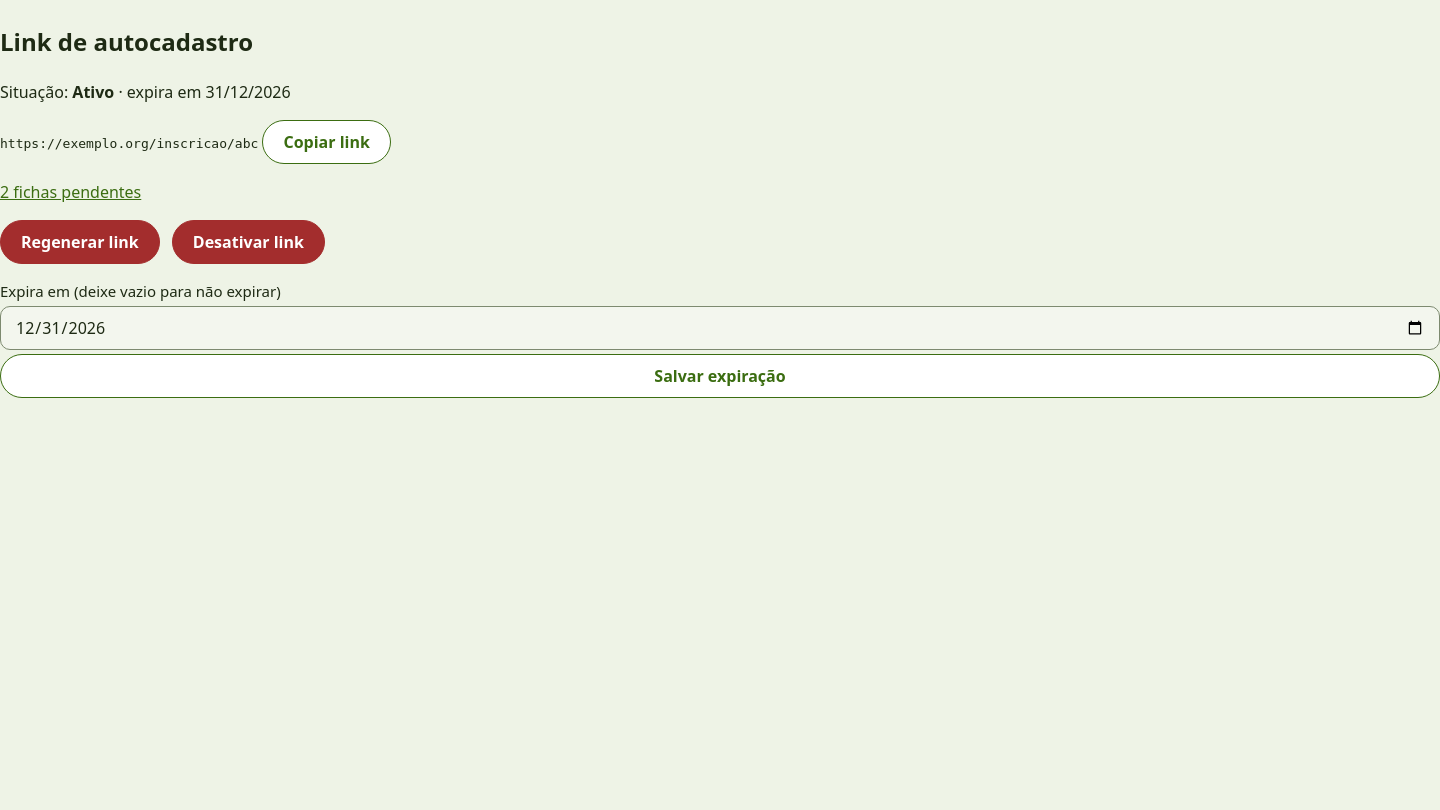
Scenario: SecaoLink › pede confirmação antes de regenerar
Click the button "Regenerar link" at (80, 242), box [0,220,160,264]
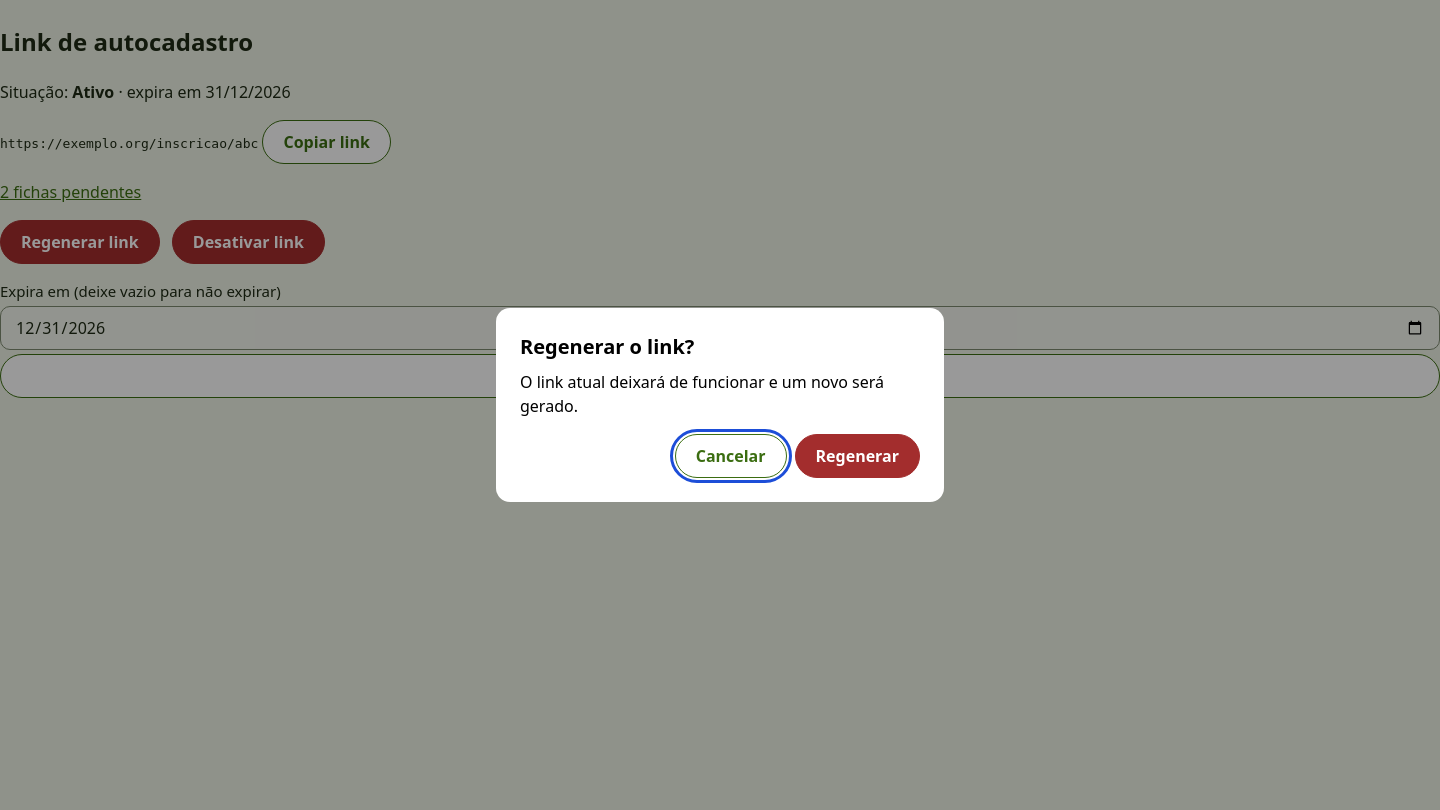
Expected: the text "O link atual deixará de funcionar e um novo será gerado." is shown, [520,370,920,418]
Expected: the button "Regenerar" is shown, [794,434,920,478]
